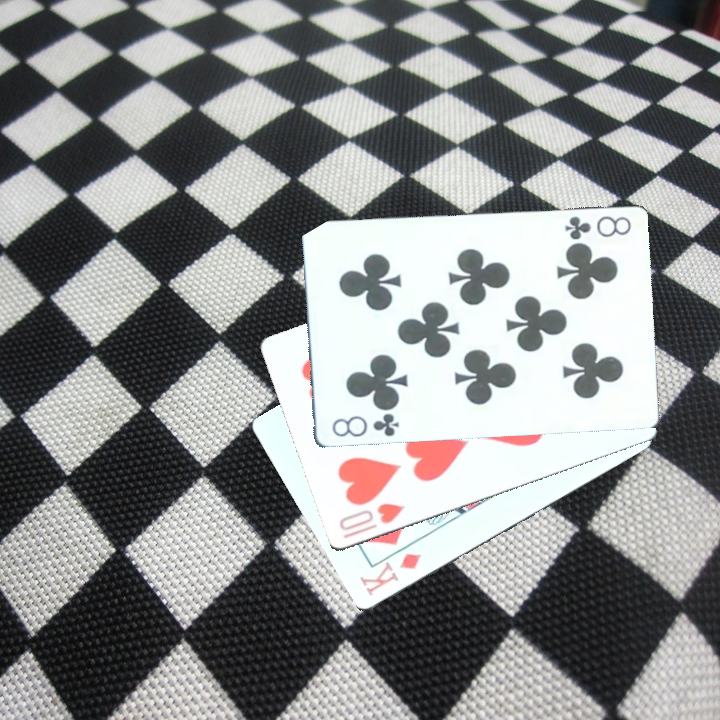10h: (334, 498, 407, 534)
8c: (328, 409, 402, 440), (561, 212, 634, 243)
Kd: (355, 532, 424, 599)
